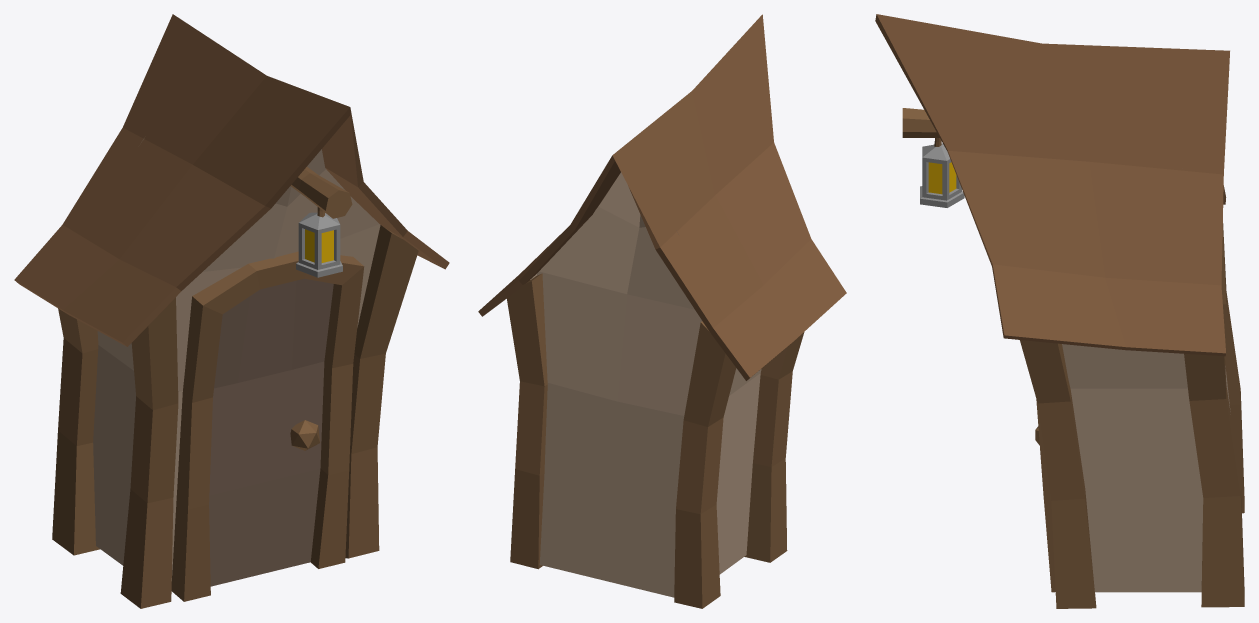
The model's file is Porch.fbx.
The picture shows the model from 3 angles, left to right: view 1: azimuth 30°, elevation 25°; view 2: azimuth 150°, elevation 25°; view 3: azimuth 270°, elevation 25°; orthographic projection. The views are drawn at different scales.
Parts seen in each view (by area): view 1: Porch; view 2: Porch; view 3: Porch.
Boxes of the visible parts, box(x1,y1,x2,y2) form: Porch: box(14, 14, 449, 608); Porch: box(478, 14, 846, 608); Porch: box(875, 14, 1244, 608).
Size of the model in its own units: 235 by 380 by 231.
